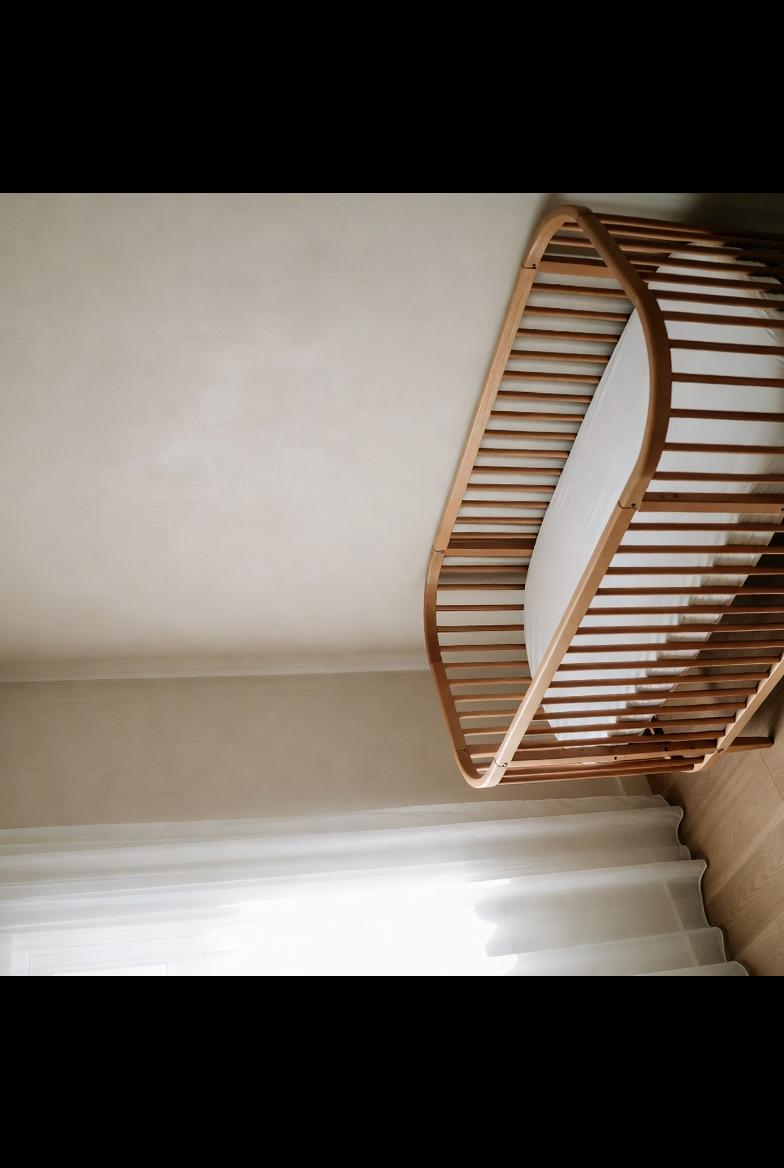crib: (425, 206, 784, 785)
